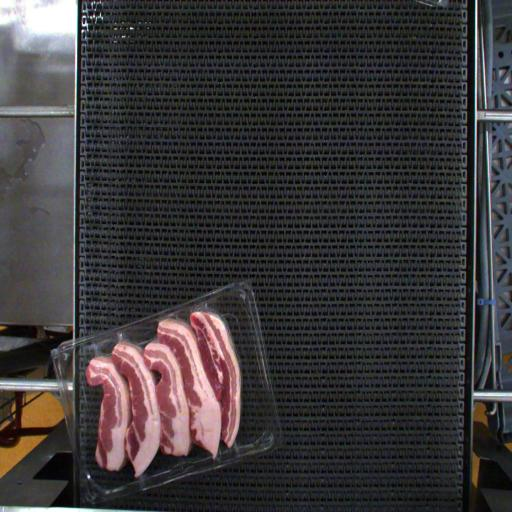packaging-error: (193, 295, 223, 325), (84, 333, 108, 360), (113, 317, 127, 346), (159, 309, 183, 324)
